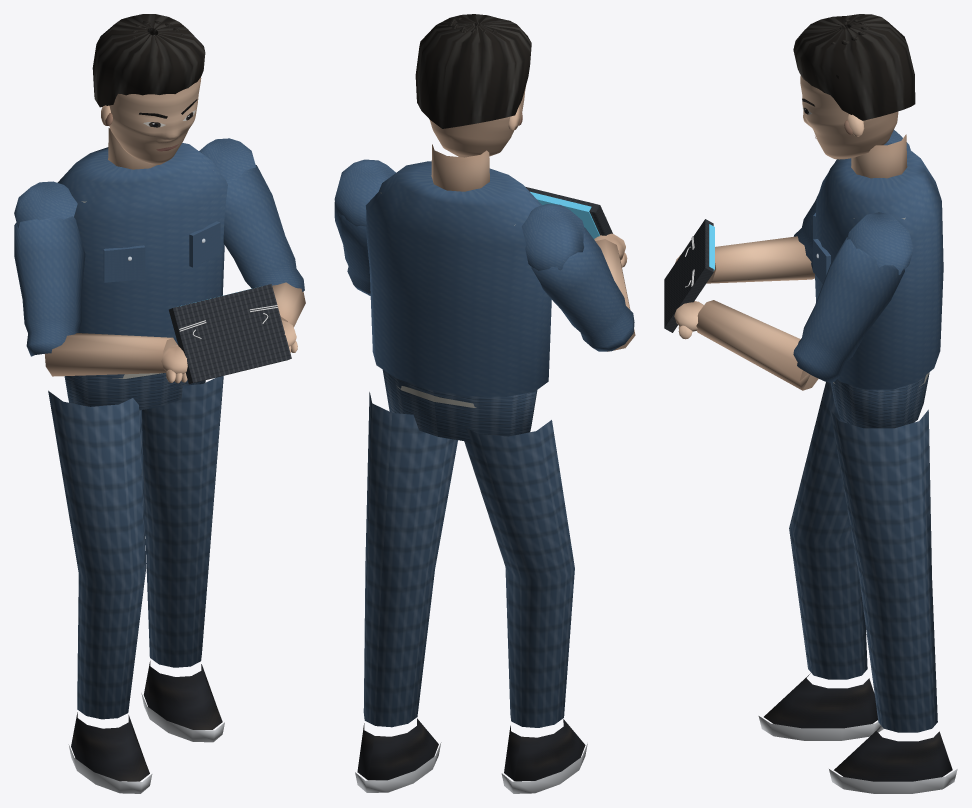
Rendered from HERO-03_kolya-tablet.glb.
3 renders of one model, left to right at view 1: azimuth 30°, elevation 25°; view 2: azimuth 150°, elevation 25°; view 3: azimuth 270°, elevation 25°, orthographic. The views are drawn at different scales.
Visible parts, largest first — view 1: kolya · soles; view 2: kolya · soles; view 3: kolya · soles.
Boxes of the visible parts, box(x1,y1,x2,y2) form: kolya · soles: box(14, 14, 305, 793); kolya · soles: box(334, 14, 635, 793); kolya · soles: box(664, 14, 957, 793).
Bounding box in the file's own units: 0.6615 × 1.68 × 0.6108.
Materials: 3 (2 with a texture image).
